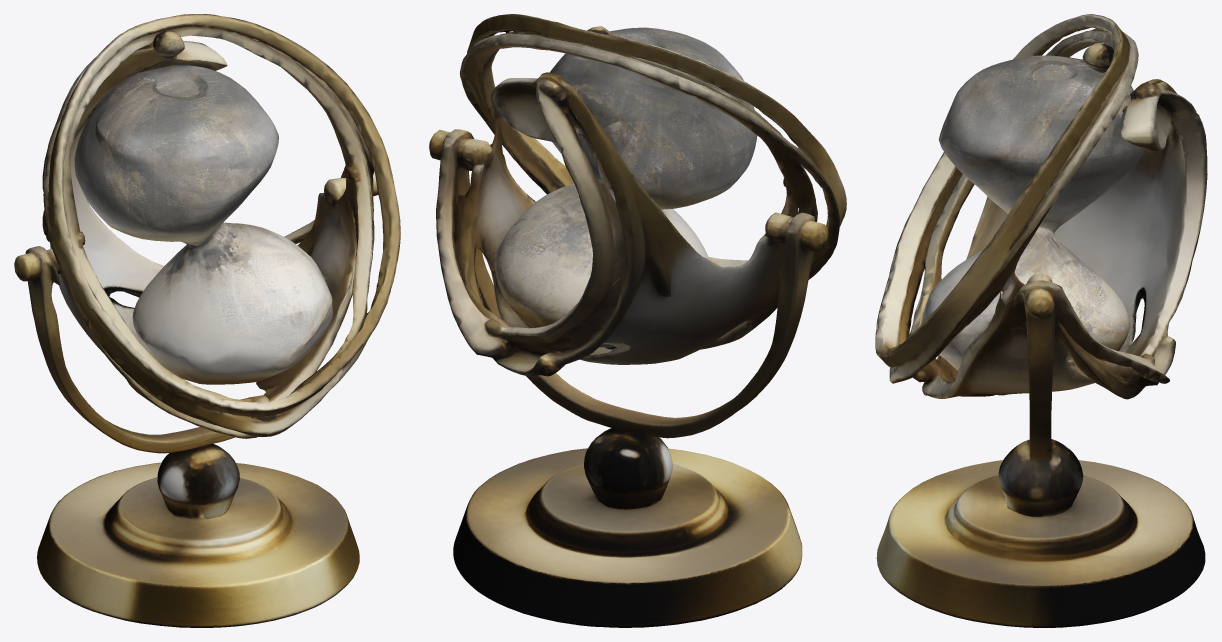
File: sandtimer.glb
The picture shows the model from 3 angles, left to right: view 1: azimuth 30°, elevation 25°; view 2: azimuth 150°, elevation 25°; view 3: azimuth 270°, elevation 25°; orthographic projection. The views are drawn at different scales.
Visible parts, largest first — view 1: world; view 2: world; view 3: world.
Part boxes in pixels (x1,y1,x2,y2): world: (14, 14, 400, 627); world: (429, 14, 846, 627); world: (875, 14, 1207, 627).
Bounding box in the file's own units: 0.7375 × 0.9995 × 0.5778.
Materials: 1 (1 with a texture image).
